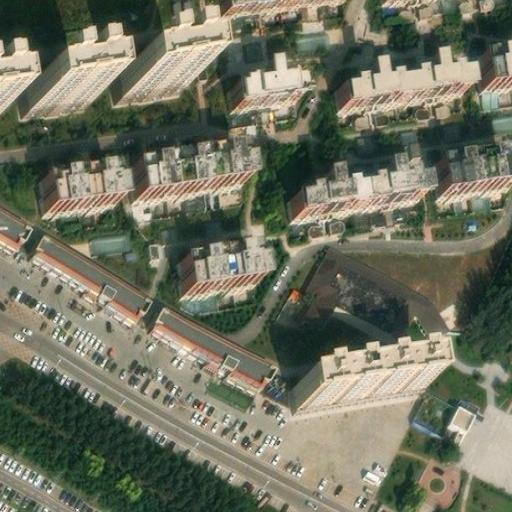building: (34, 226, 153, 311), (155, 300, 279, 377), (335, 57, 466, 107), (291, 164, 422, 213), (293, 354, 426, 402), (130, 148, 251, 196), (37, 167, 123, 212), (177, 248, 262, 289), (434, 150, 512, 192), (121, 41, 188, 84), (24, 58, 91, 101), (233, 63, 301, 104), (477, 48, 512, 89), (441, 398, 477, 437)
